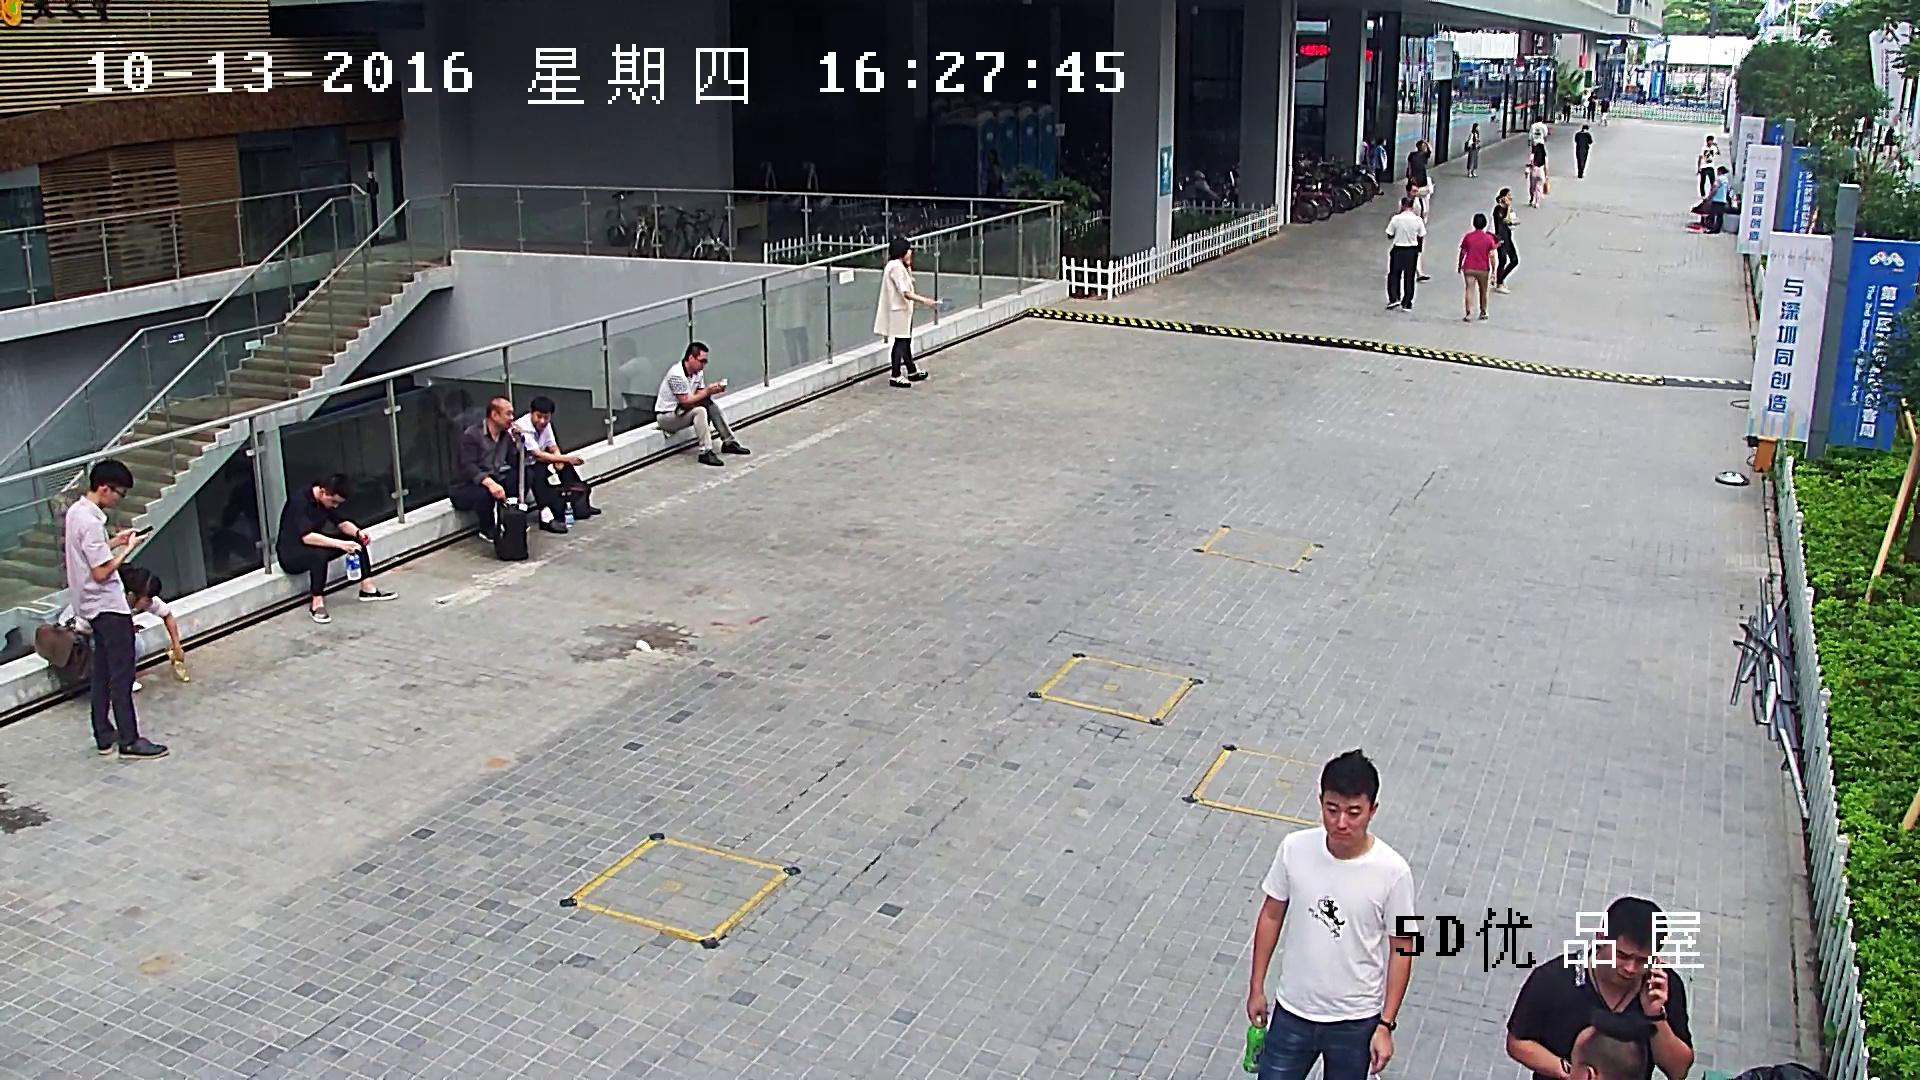person: (1242, 749, 1418, 1080), (1506, 897, 1693, 1080), (65, 459, 168, 758), (36, 562, 187, 691), (276, 473, 398, 623), (506, 396, 600, 533), (654, 341, 749, 465), (449, 396, 526, 543), (874, 238, 943, 387), (1458, 213, 1503, 321), (1384, 197, 1425, 311), (1397, 182, 1429, 282), (1493, 188, 1519, 294), (1687, 166, 1728, 233), (1405, 139, 1434, 200), (1703, 166, 1728, 233), (1524, 142, 1550, 207), (1695, 135, 1720, 196), (1575, 124, 1592, 178), (1464, 122, 1480, 177), (1373, 136, 1386, 195), (1528, 116, 1548, 152), (1850, 114, 1865, 149), (1360, 135, 1370, 164), (1587, 92, 1595, 122), (1562, 91, 1571, 122), (1599, 96, 1608, 126), (1582, 90, 1587, 120)
